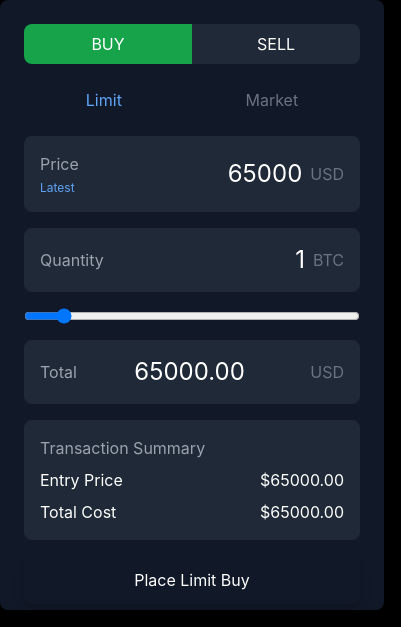
Test: OrderSection component › updates state when inputs change
Replace the text in the number field labelled "Price" with "70000" at (191,174), box [79,158,302,190]
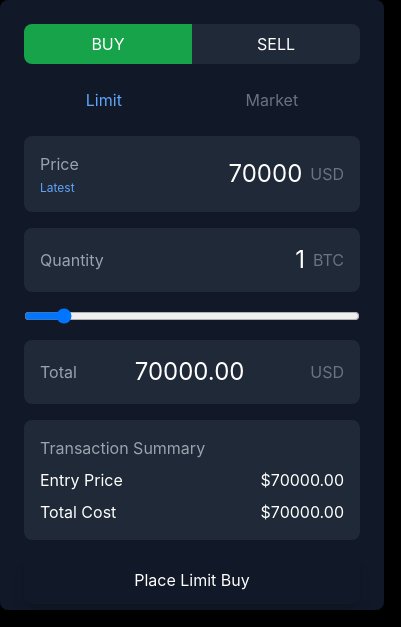
Replace the text in the number field labelled "Quantity" with "2" at (204,260), box [104,244,305,276]
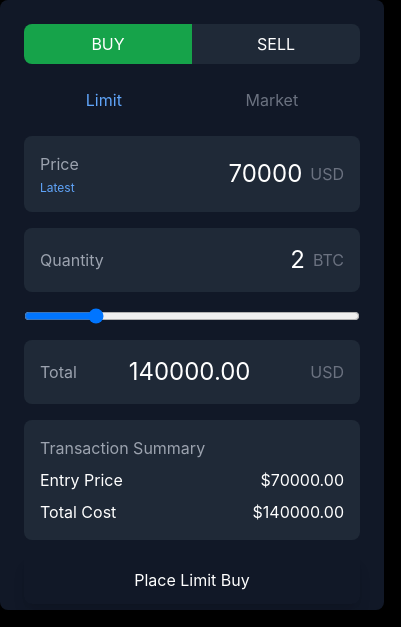
expect the text "$140000.00" is shown: met, box [252,500,344,524]
